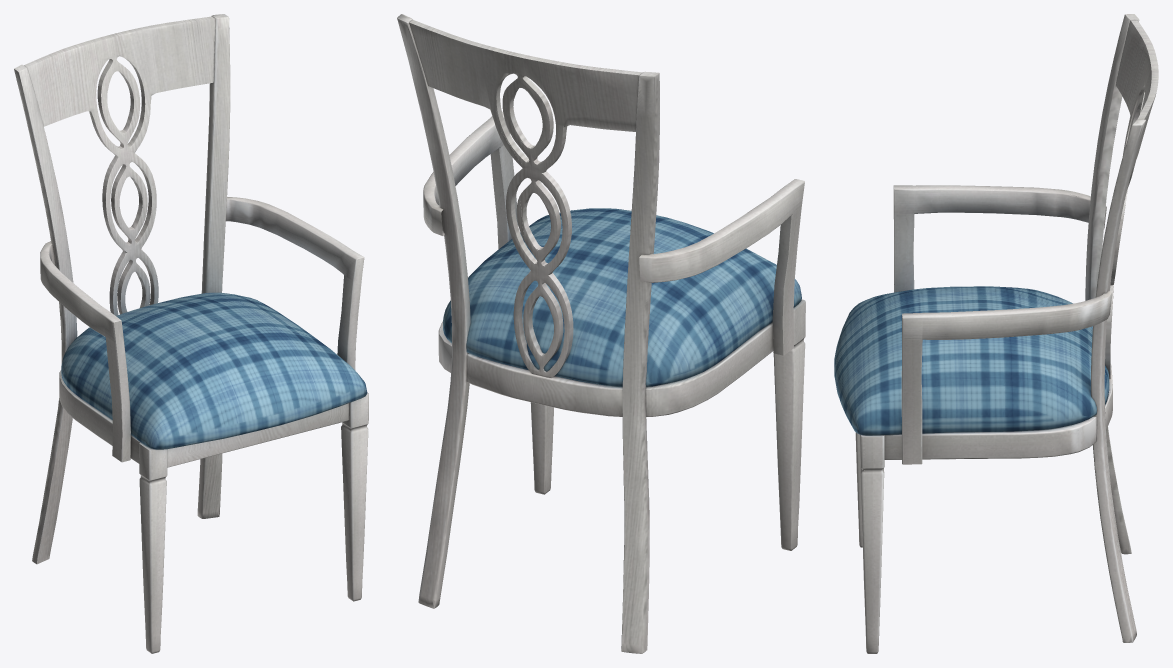
The model's file is raw_model.obj.
3 renders of one model, left to right at view 1: azimuth 30°, elevation 25°; view 2: azimuth 150°, elevation 25°; view 3: azimuth 270°, elevation 25°, orthographic. The views are drawn at different scales.
Parts seen in each view (by area): view 1: solid_002, solid_001; view 2: solid_002, solid_001; view 3: solid_002, solid_001.
Part boxes in pixels (x1,y1,x2,y2): solid_002: (14,14,368,653); solid_001: (61,292,367,449); solid_002: (397,14,805,653); solid_001: (443,208,801,386); solid_002: (855,14,1158,653); solid_001: (834,286,1109,435).
Size of the model in its own units: 0.5346 by 0.9847 by 0.5517.
Materials: 1 (1 with a texture image).
